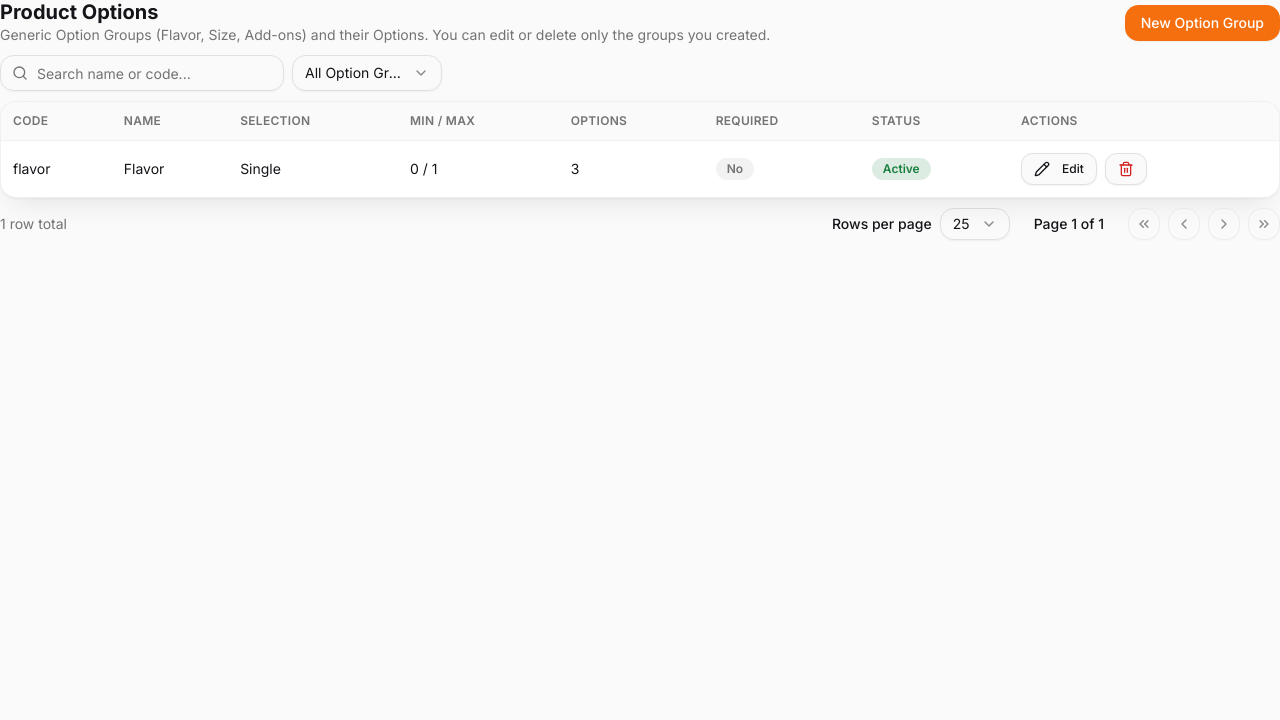
it: SupervisorProductOptionsPage — Delete action › opens the confirmation dialog on click, showing the group name, code, and option count
Click the button named "Delete Flavor" at (1126, 168), box 1105,152 -> 1147,184
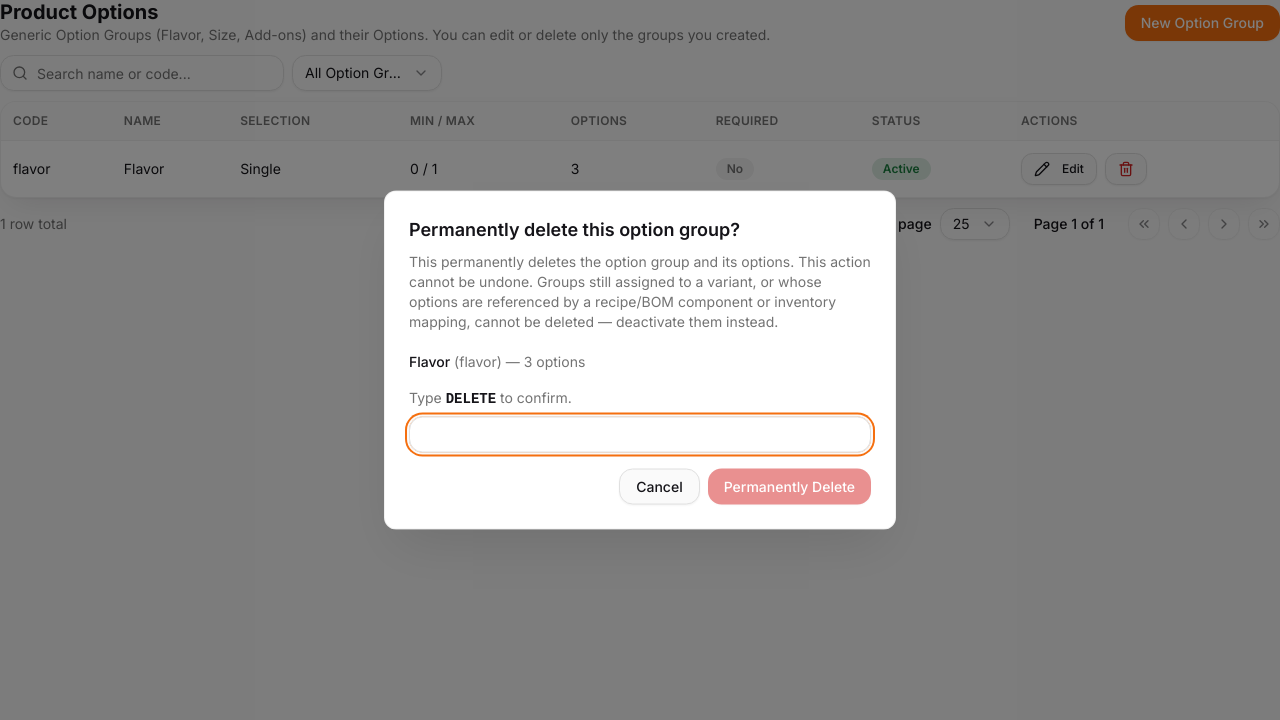
Expected: the heading "Permanently delete this option group?" is shown, 409,218 -> 740,240
Expected: the text "(flavor)" is shown, 409,352 -> 450,370
Expected: the text "3 options" is shown, 409,252 -> 871,372
